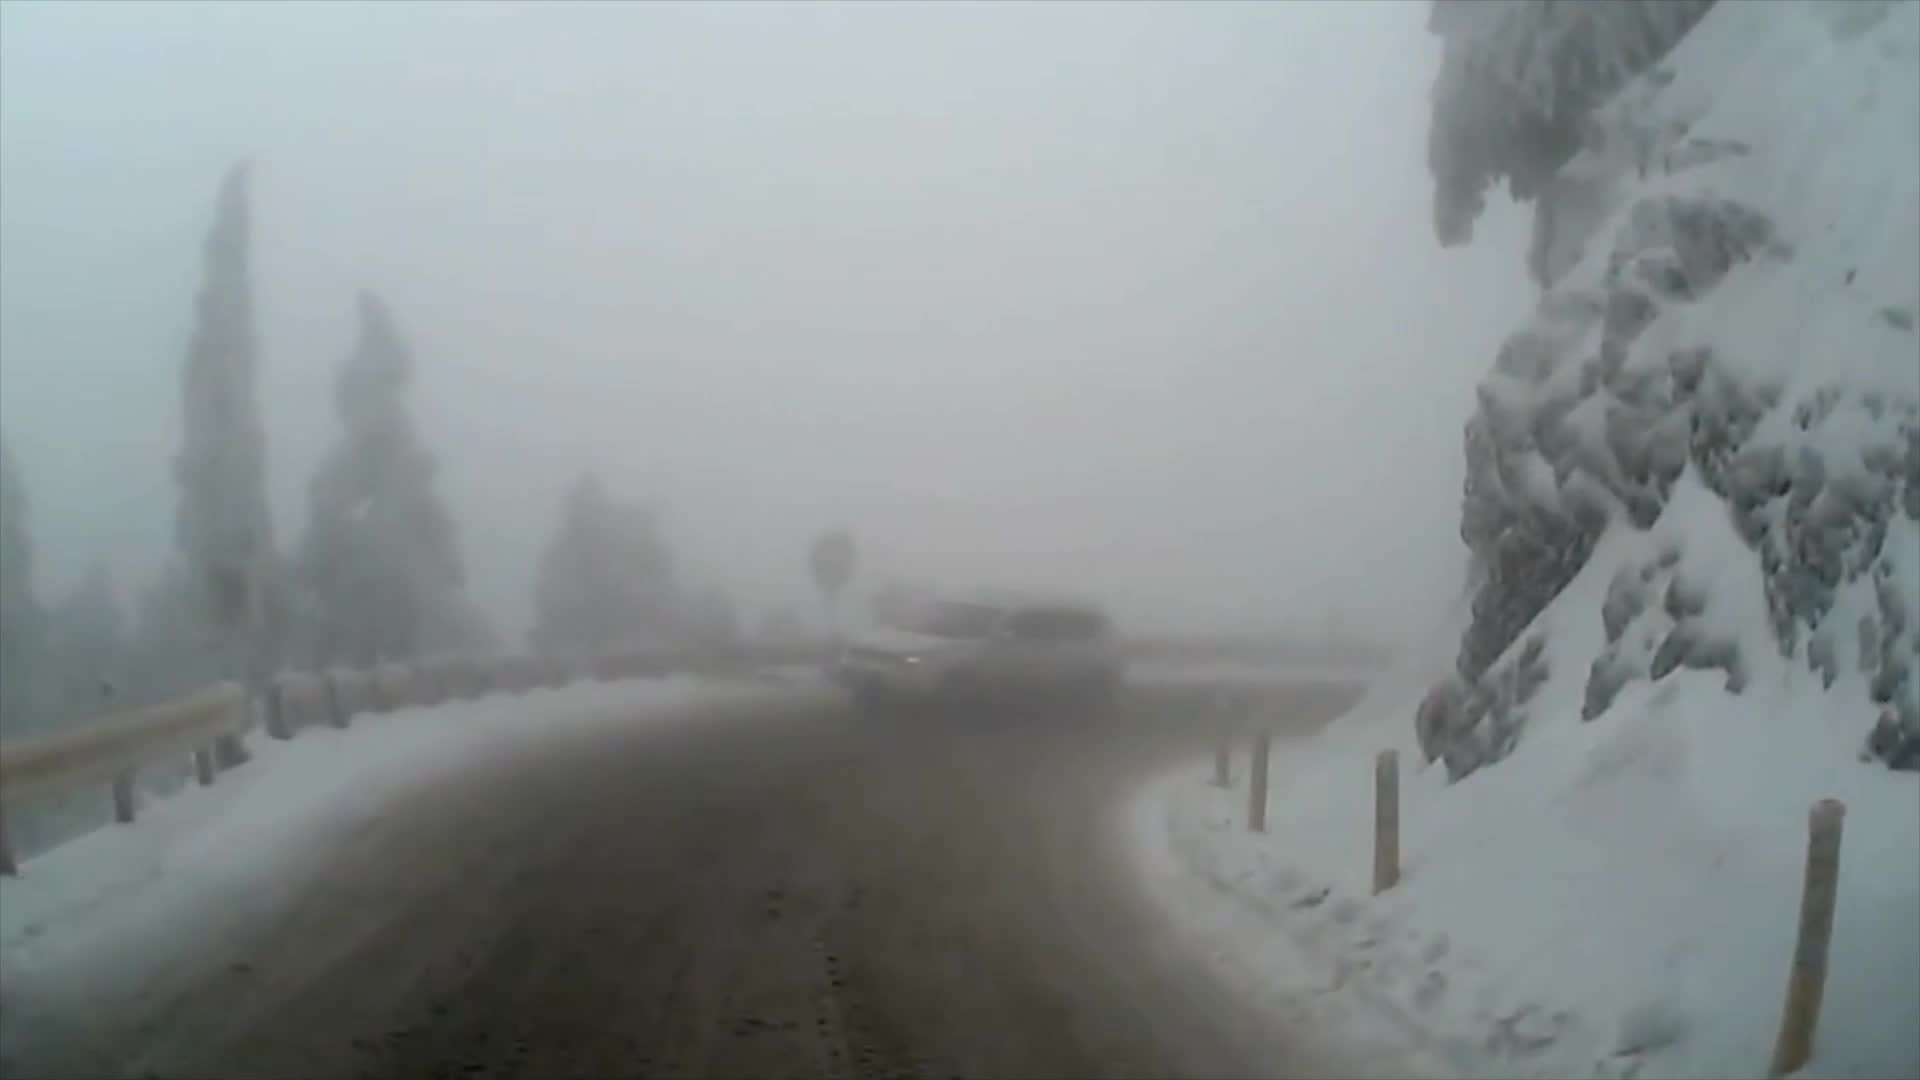vehicle: (833, 589, 1124, 729)
